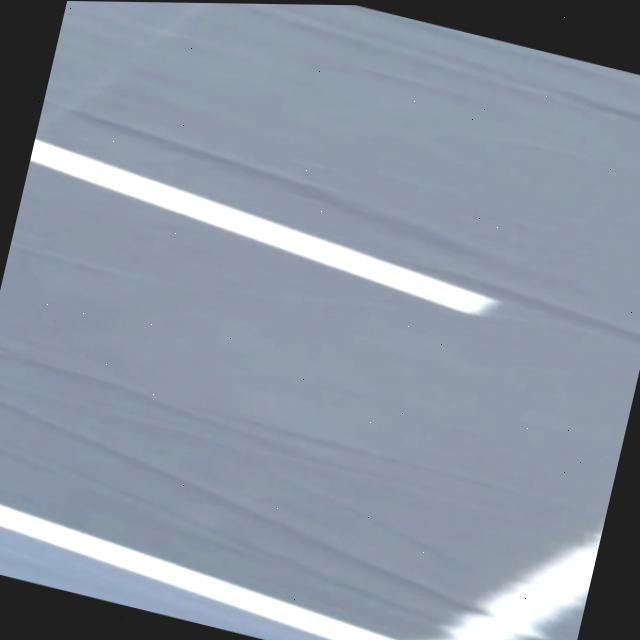center: (28, 139, 498, 315)
